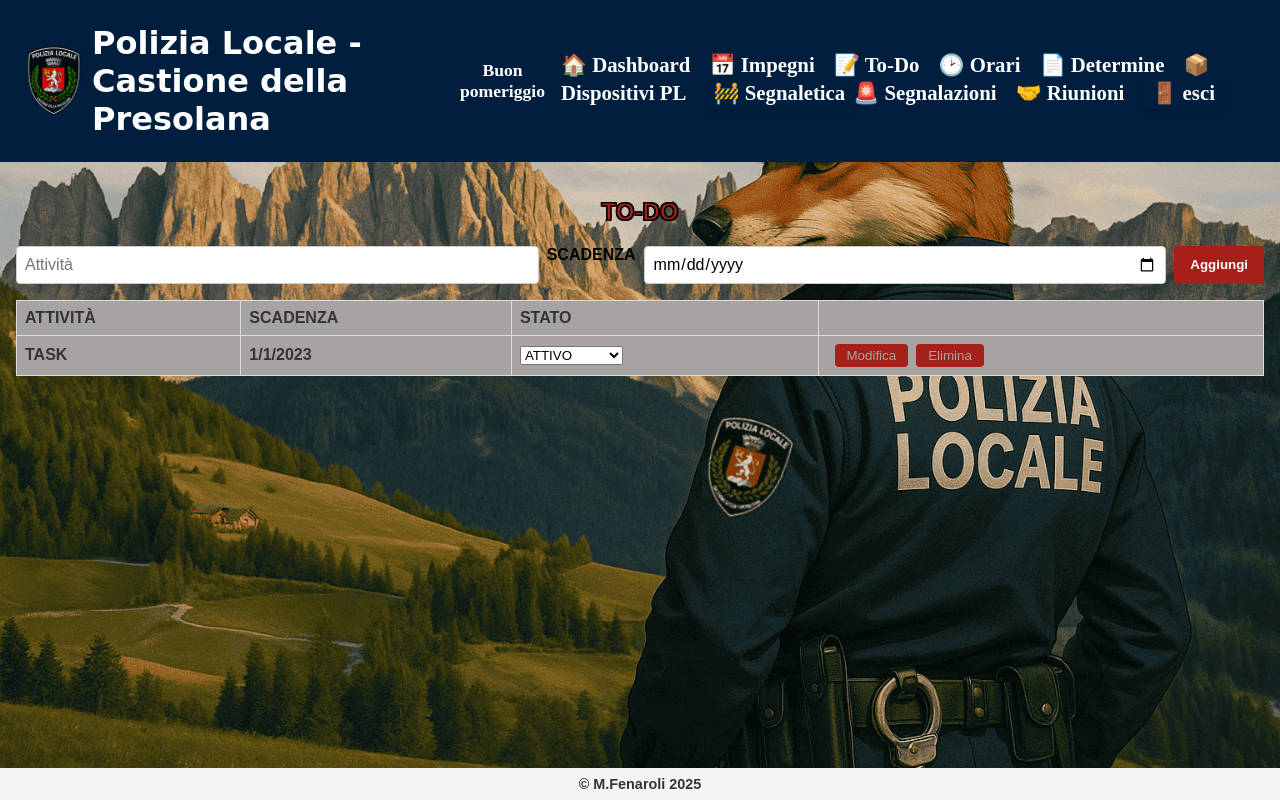
Test: TodoPage offline › edits todo offline
The image size is (1280, 800).
Expected: the text "Task" is shown, x1=16 y1=335 x2=241 y2=375
Click the button with test id "todo-edit".
click(871, 355)  # box x1=834 y1=344 x2=908 y2=367
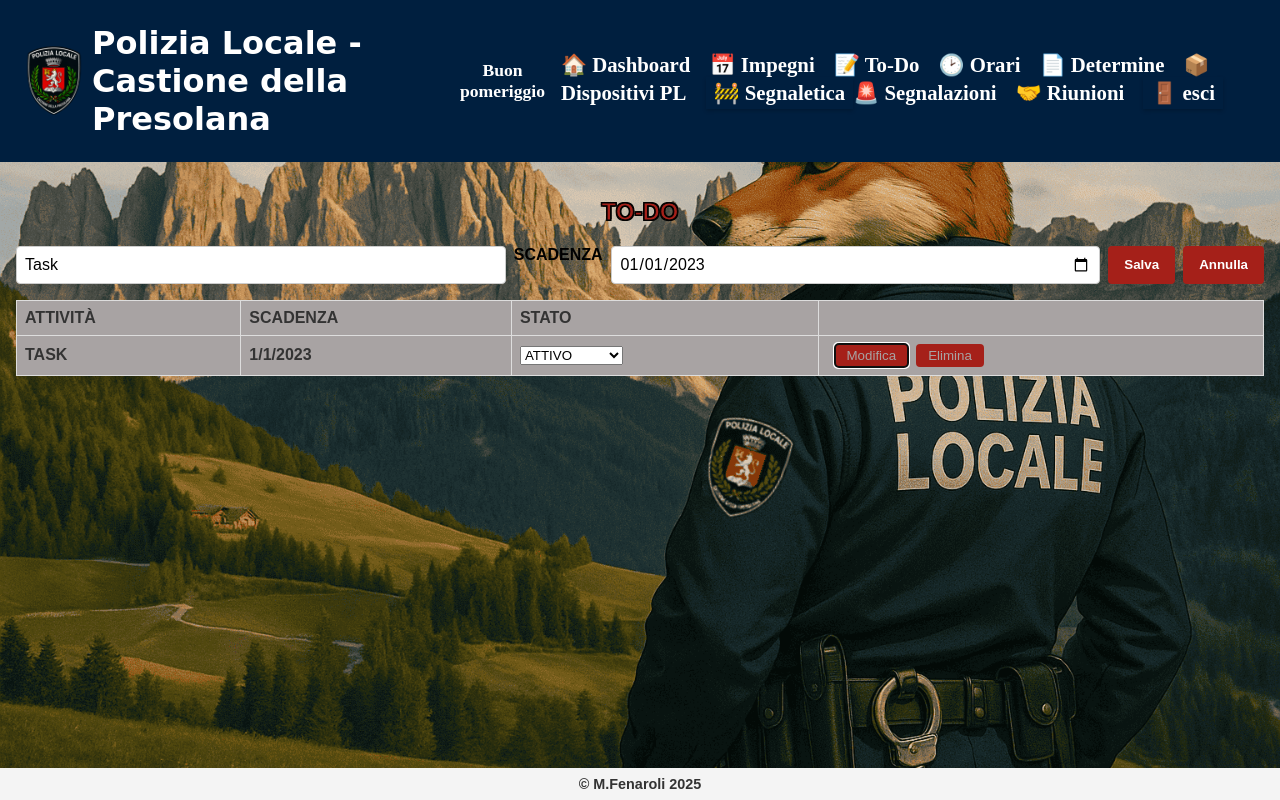
Replace the text in the field with test id "todo-text" with "Task edited" at coordinates (261, 265), box x1=16 y1=246 x2=506 y2=284
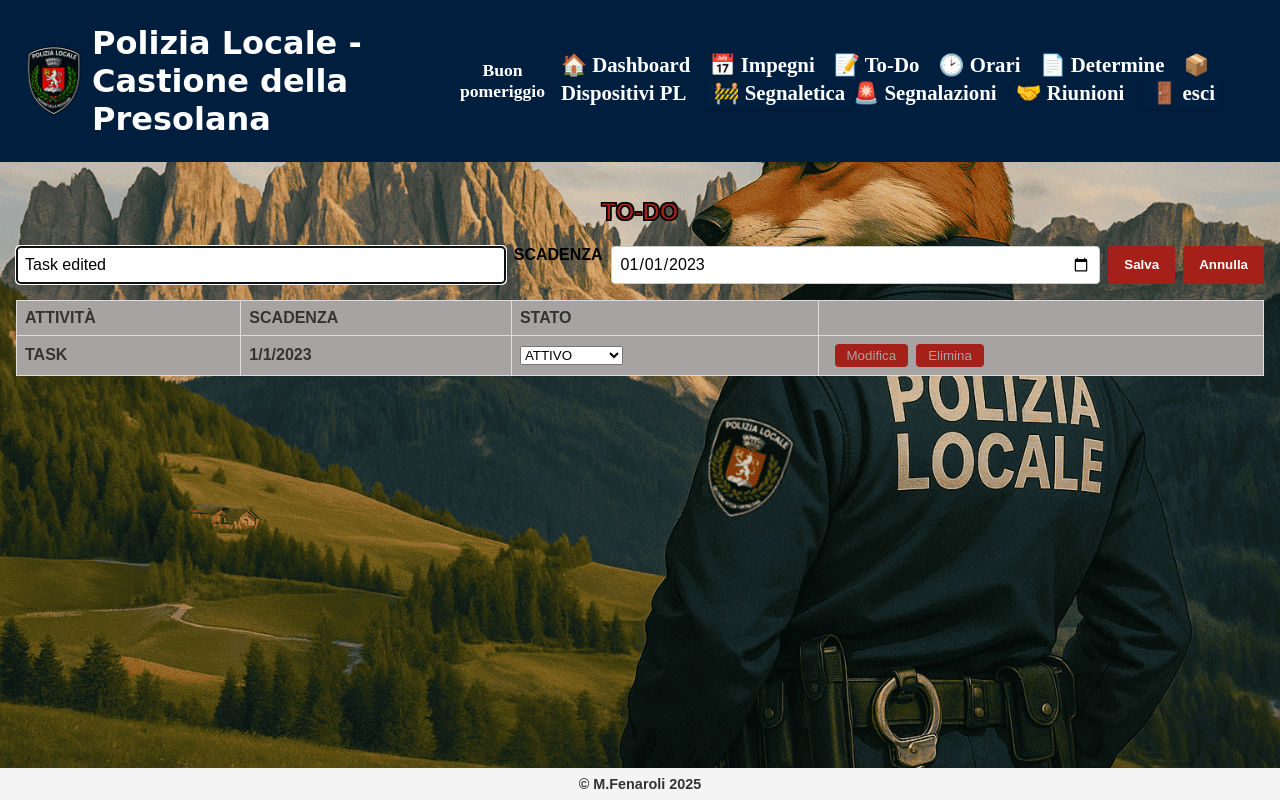
Type "2023-02-02" into the date field with test id "todo-due".
click(855, 265); type("2023-02-02")  # box x1=611 y1=246 x2=1100 y2=284
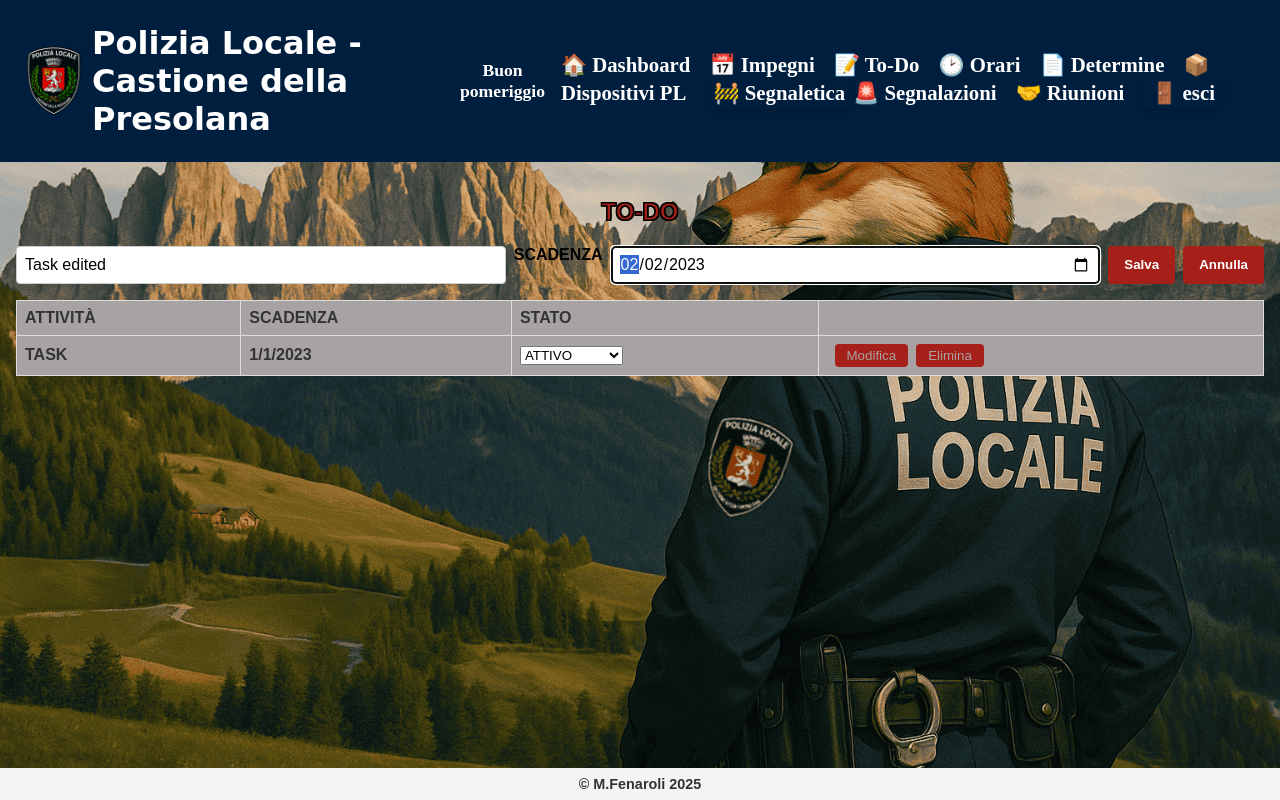
Click the button with test id "todo-submit".
click(1142, 265)  # box x1=1108 y1=246 x2=1175 y2=284
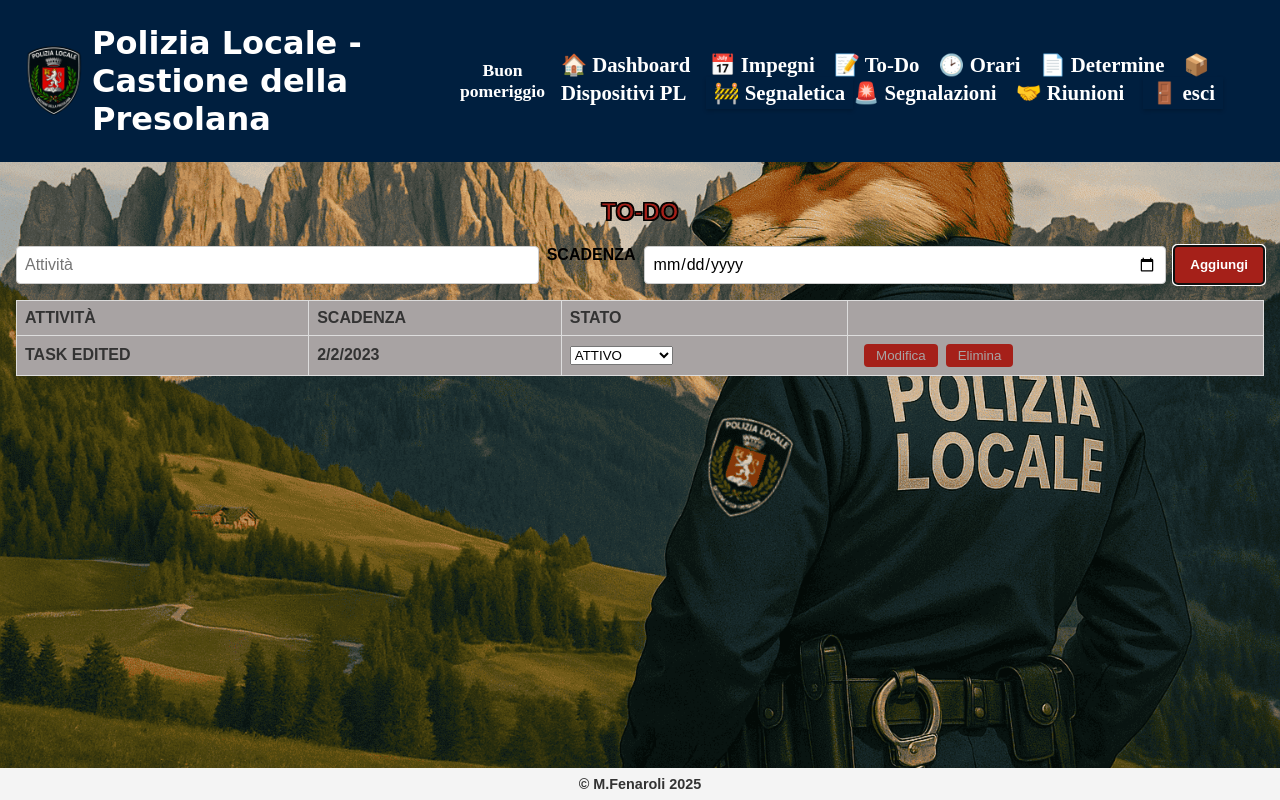
Now the text "Task edited" is shown, box x1=16 y1=335 x2=309 y2=375
